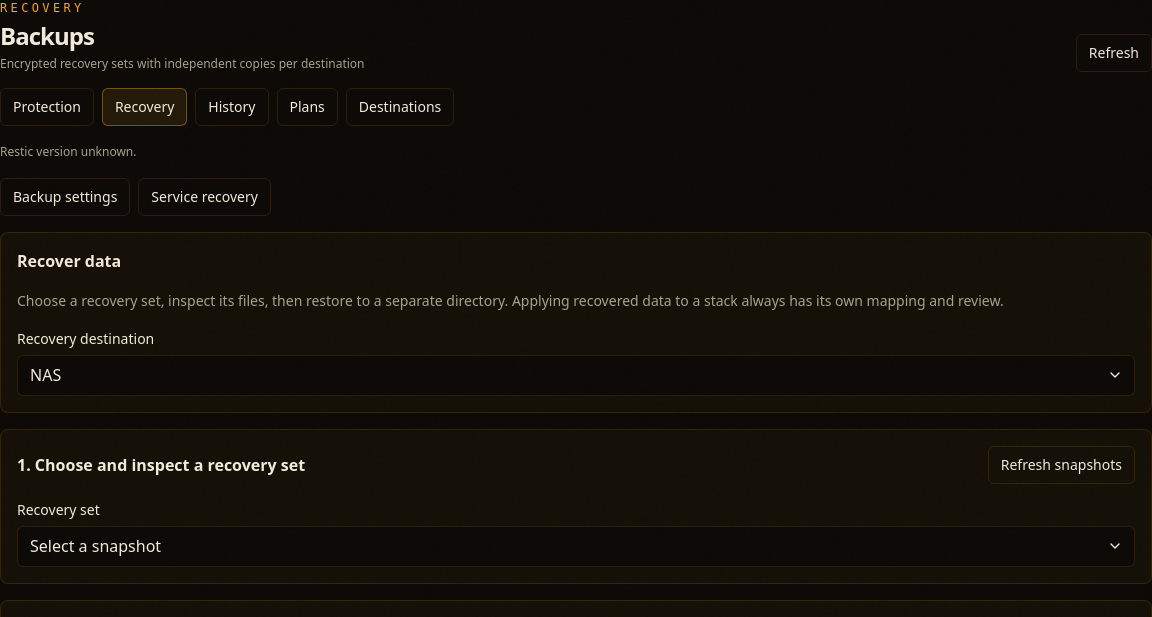
Test case: Backup workflow round three regressions › preserves an explicit missing snapshot selection with a persistent explanation
Step 1. Select "10/1/2026, 12:00:00 AM UTC · existing · complete · host" in the dropdown labelled "Recovery set" → (576, 546), box [17,526,1135,567]
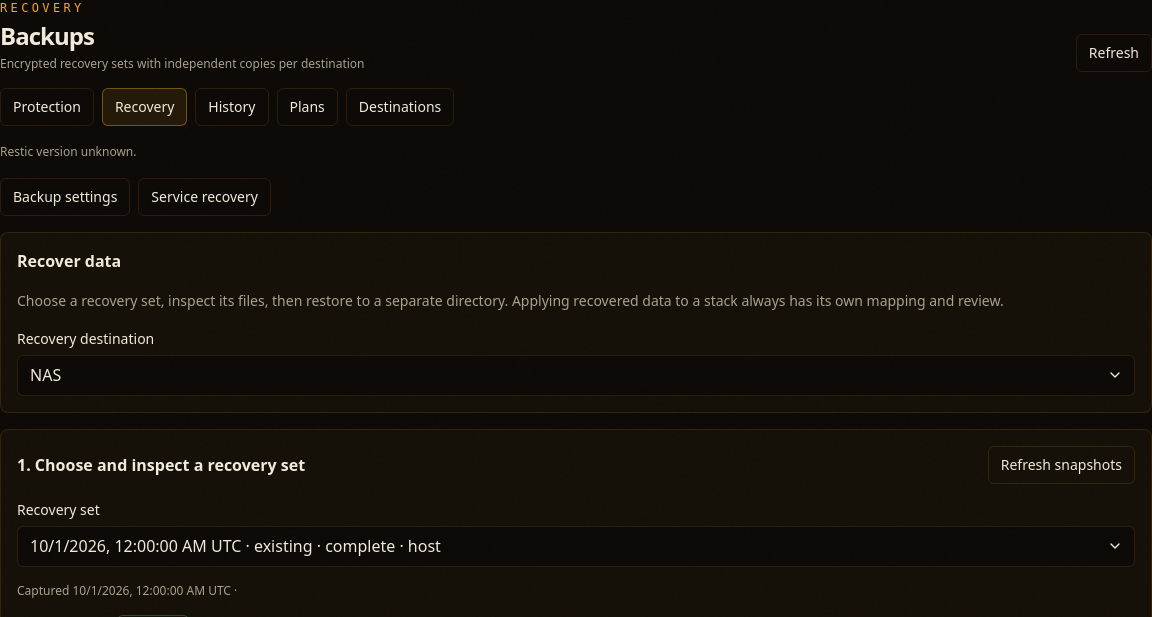
Step 2. Click the button "Refresh snapshots" → (1061, 465), box [988,446,1135,484]
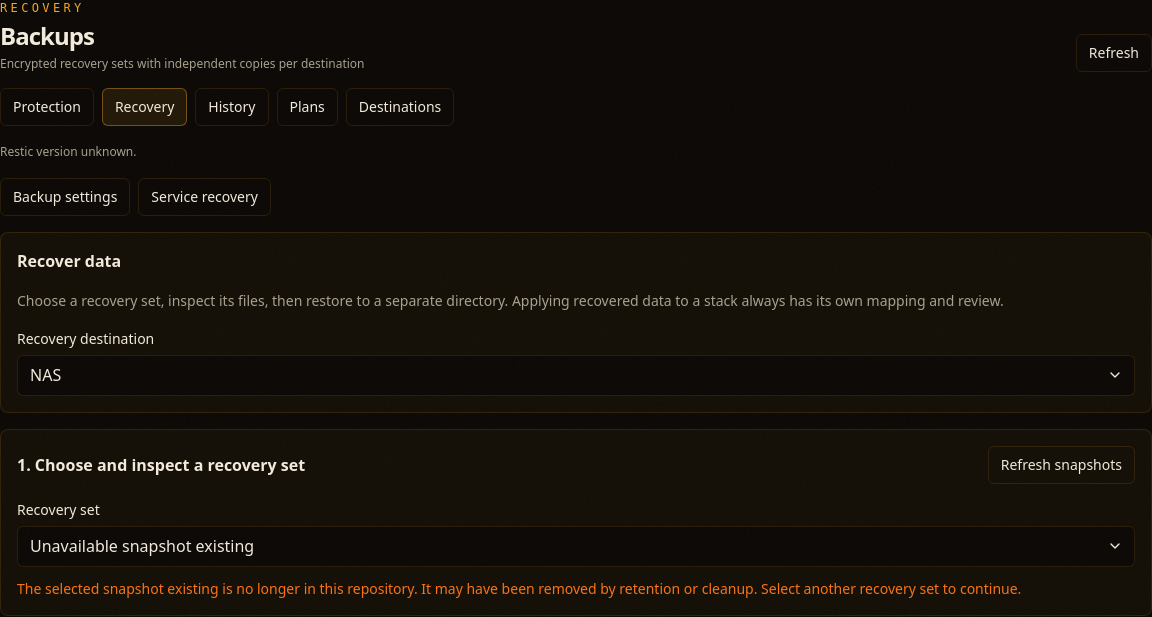
Step 3. Click the tab "Plans" → (307, 107), box [276,88,338,126]
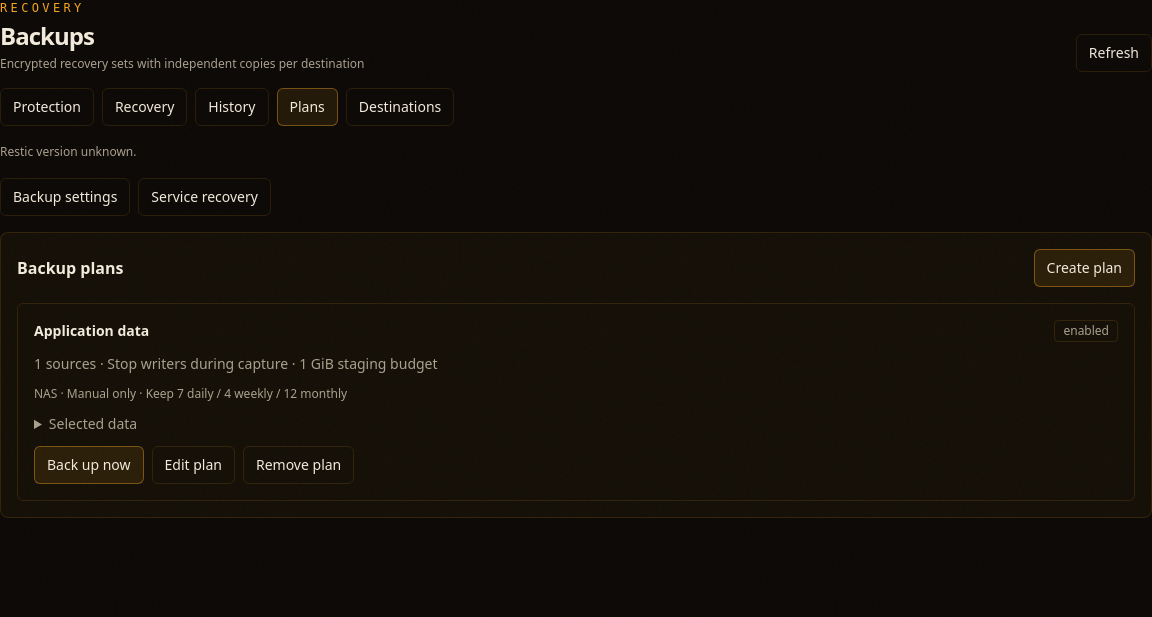
Step 4. Click the tab "Recovery" → (145, 107), box [102,88,187,126]
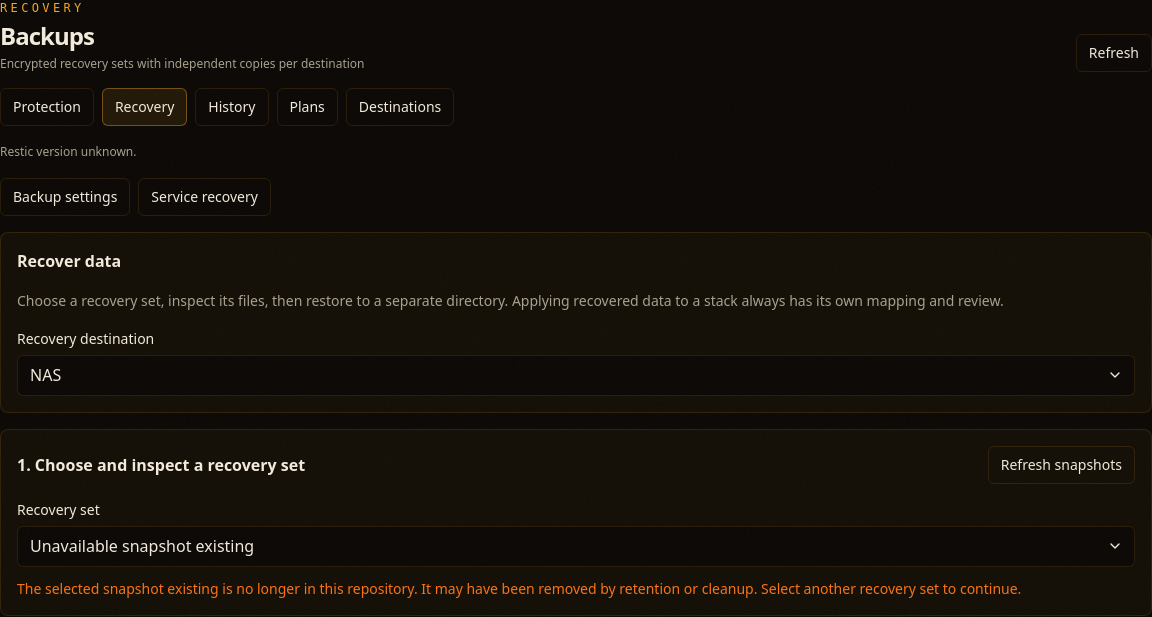
Check: the text "The selected snapshot existing is no longer" is shown, box [17,579,1135,599]
Step 5. Select "10/1/2026, 12:00:00 AM UTC · existing · complete · host" in the dropdown labelled "Recovery set" → (576, 546), box [17,526,1135,567]
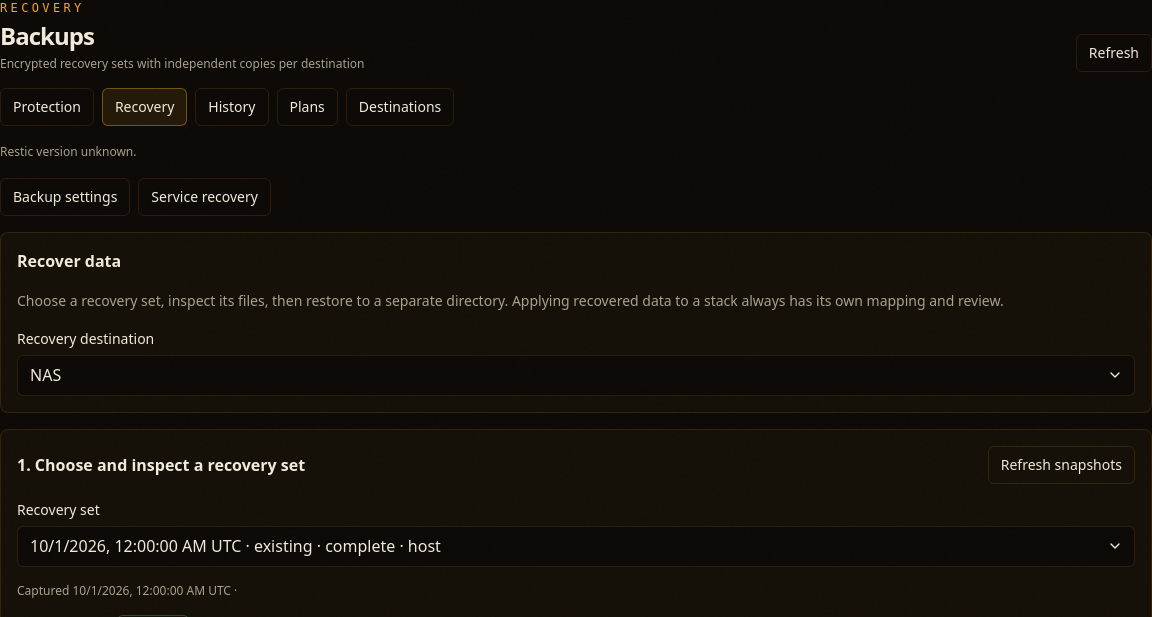
Check: the text "The selected snapshot existing is no longer" is gone
